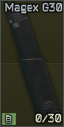Glock .45 ACP KRISS G30 MagEx 30-round magazine: (0, 0, 64, 127)
